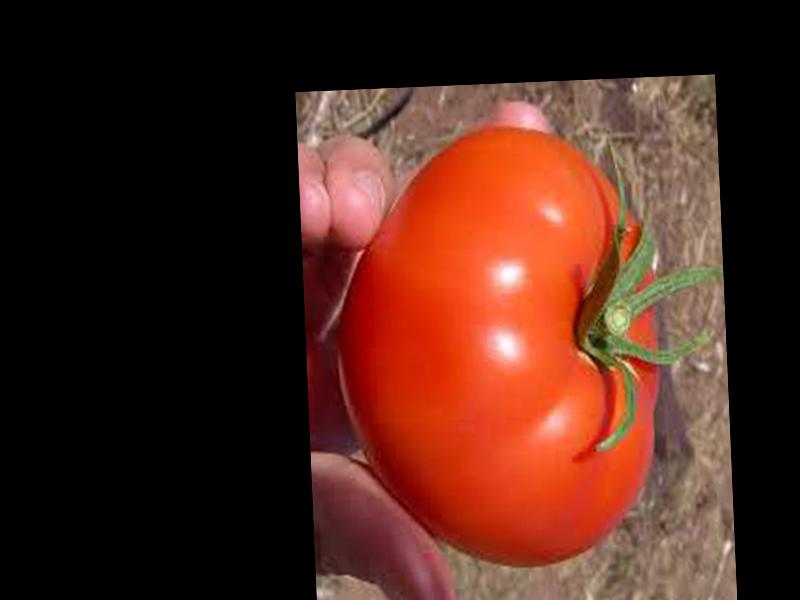Tomato: (332, 121, 667, 574)
